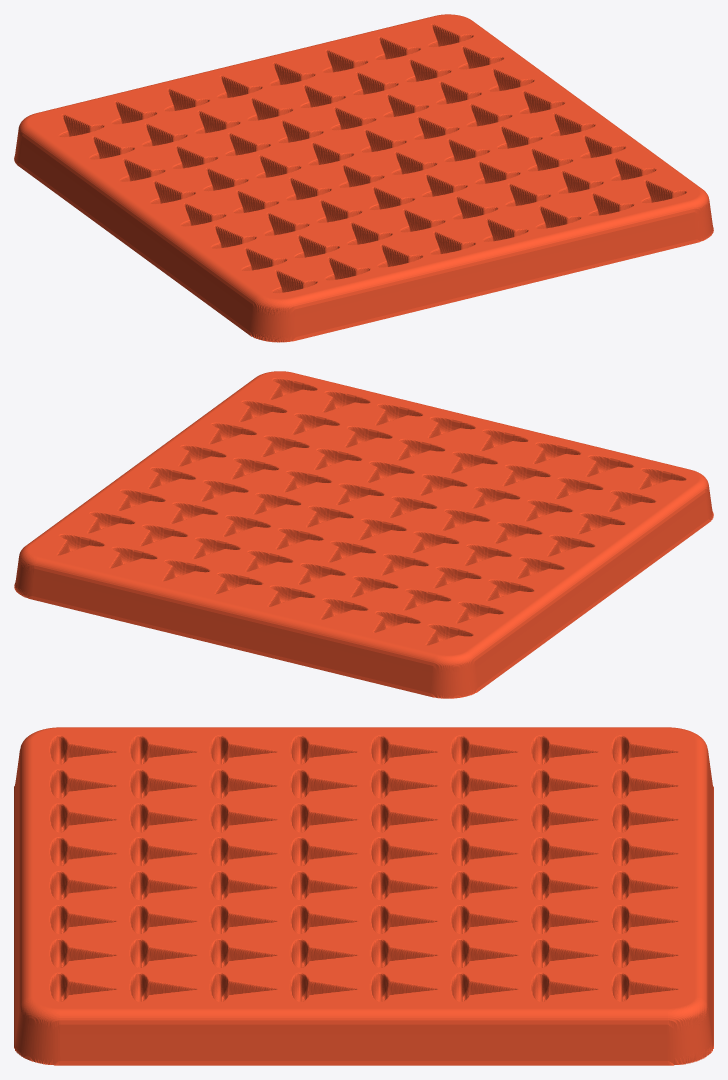
The model's file is mold.glb.
3 views of the same model, one above another, from view 1: azimuth 30°, elevation 25°; view 2: azimuth 150°, elevation 25°; view 3: azimuth 270°, elevation 25° (orthographic). The views are drawn at different scales.
Visible parts, largest first — view 1: geometry_0; view 2: geometry_0; view 3: geometry_0.
Part boxes in pixels (x1,y1,x2,y2): geometry_0: [14, 14, 713, 342]; geometry_0: [14, 371, 713, 698]; geometry_0: [14, 727, 713, 1065].
Bounding box in the file's own units: 0.1355 × 0.0105 × 0.1355.
